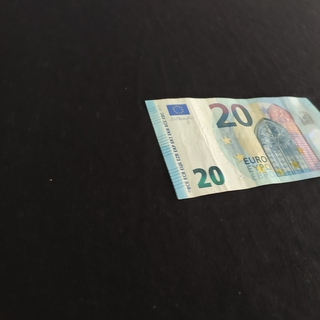20EUROFront: (144, 94, 320, 201)
